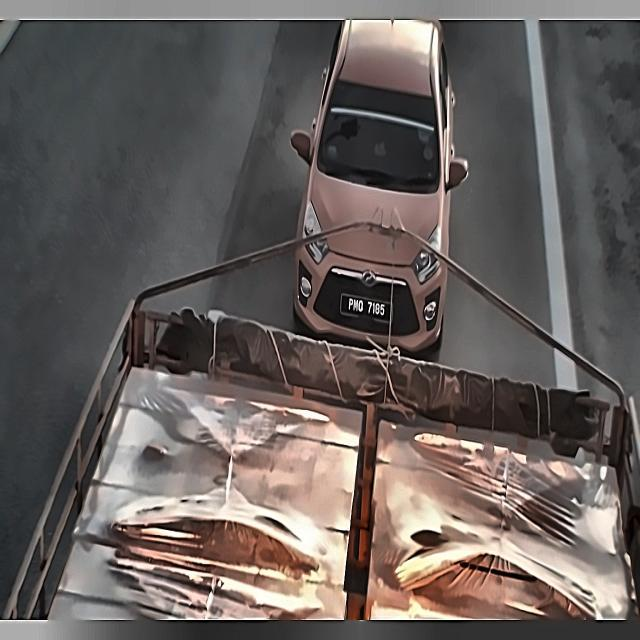car: (342, 281, 392, 326)
